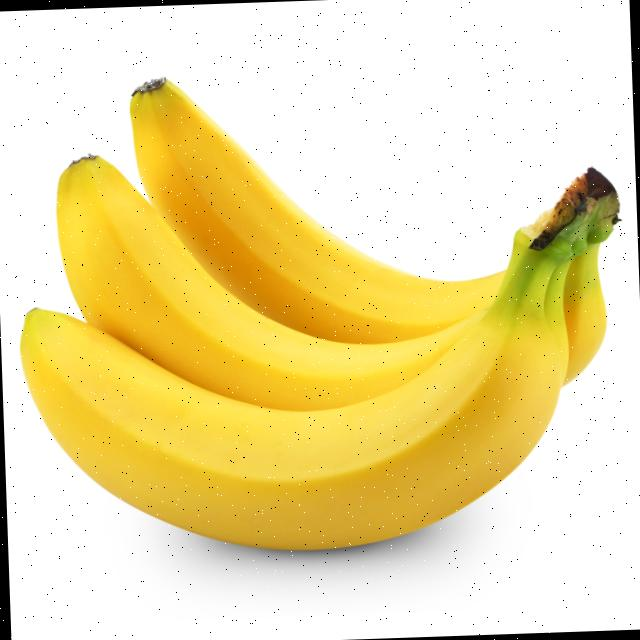Pisang: (12, 138, 619, 560), (125, 59, 626, 403)
